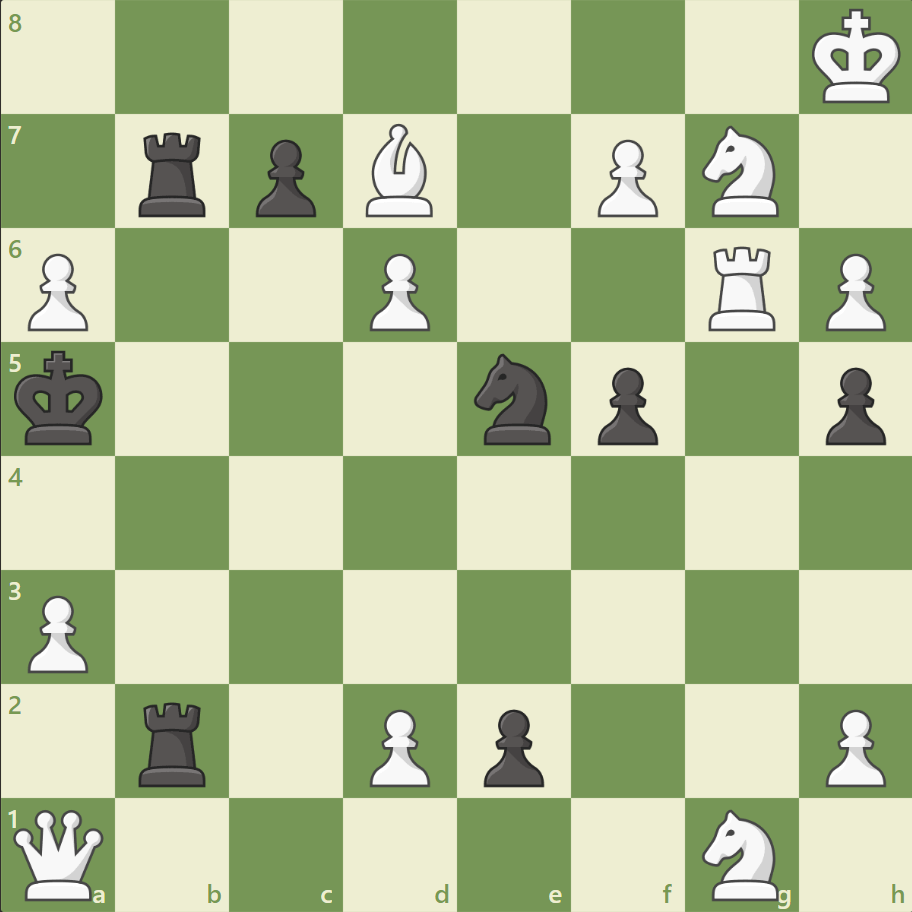B: (358, 120, 442, 222)
K: (806, 4, 906, 112)
N: (692, 121, 789, 223), (692, 802, 789, 904)
P: (20, 246, 95, 337), (20, 586, 95, 677), (588, 132, 662, 223), (361, 246, 435, 337), (815, 246, 889, 337), (361, 700, 435, 791), (815, 700, 889, 791)
Q: (10, 804, 109, 903)
R: (700, 239, 783, 336)
k: (11, 344, 111, 452)
n: (465, 348, 562, 450)
p: (247, 132, 322, 223), (474, 700, 549, 791), (588, 359, 662, 450), (815, 359, 889, 450)
r: (133, 125, 215, 222), (133, 693, 215, 790)
